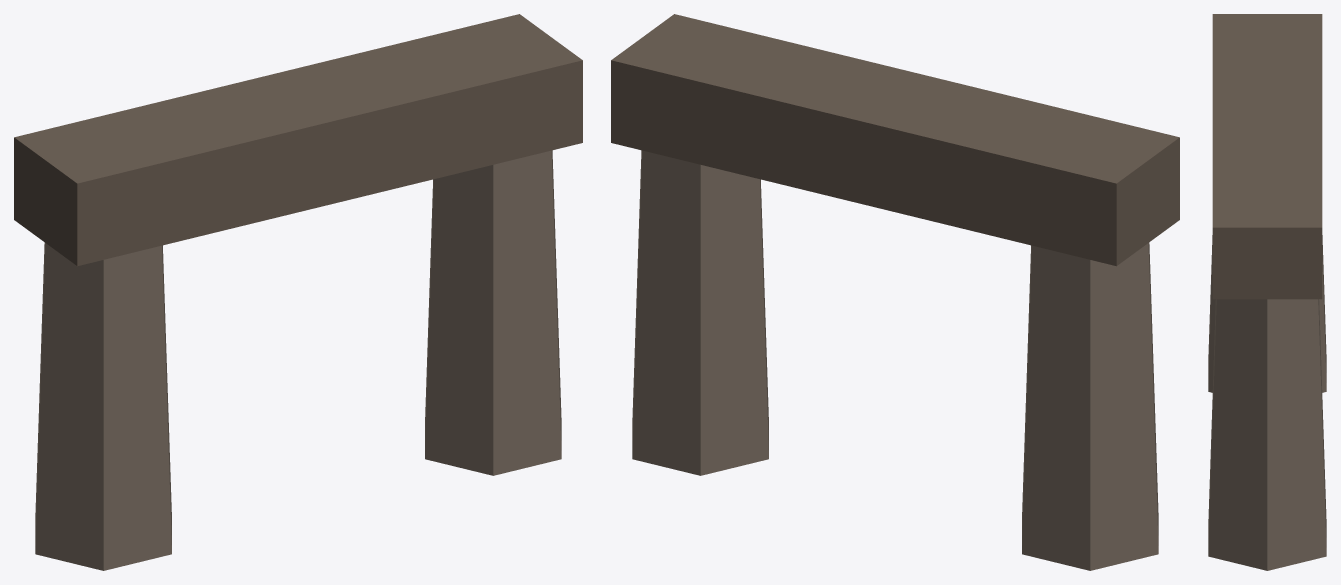
Rendered from doorframe_v2.glb.
3 renders of one model, left to right at view 1: azimuth 30°, elevation 25°; view 2: azimuth 150°, elevation 25°; view 3: azimuth 270°, elevation 25°, orthographic. The views are drawn at different scales.
Visible parts, largest first — view 1: world; view 2: world; view 3: world.
Boxes of the visible parts, box(x1,y1,x2,y2) form: world: box(14, 14, 582, 570); world: box(611, 14, 1179, 570); world: box(1208, 14, 1326, 570).
Bounding box in the file's own units: 1 × 0.71 × 0.2252.
